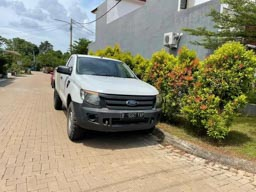plat: (118, 111, 144, 119)
